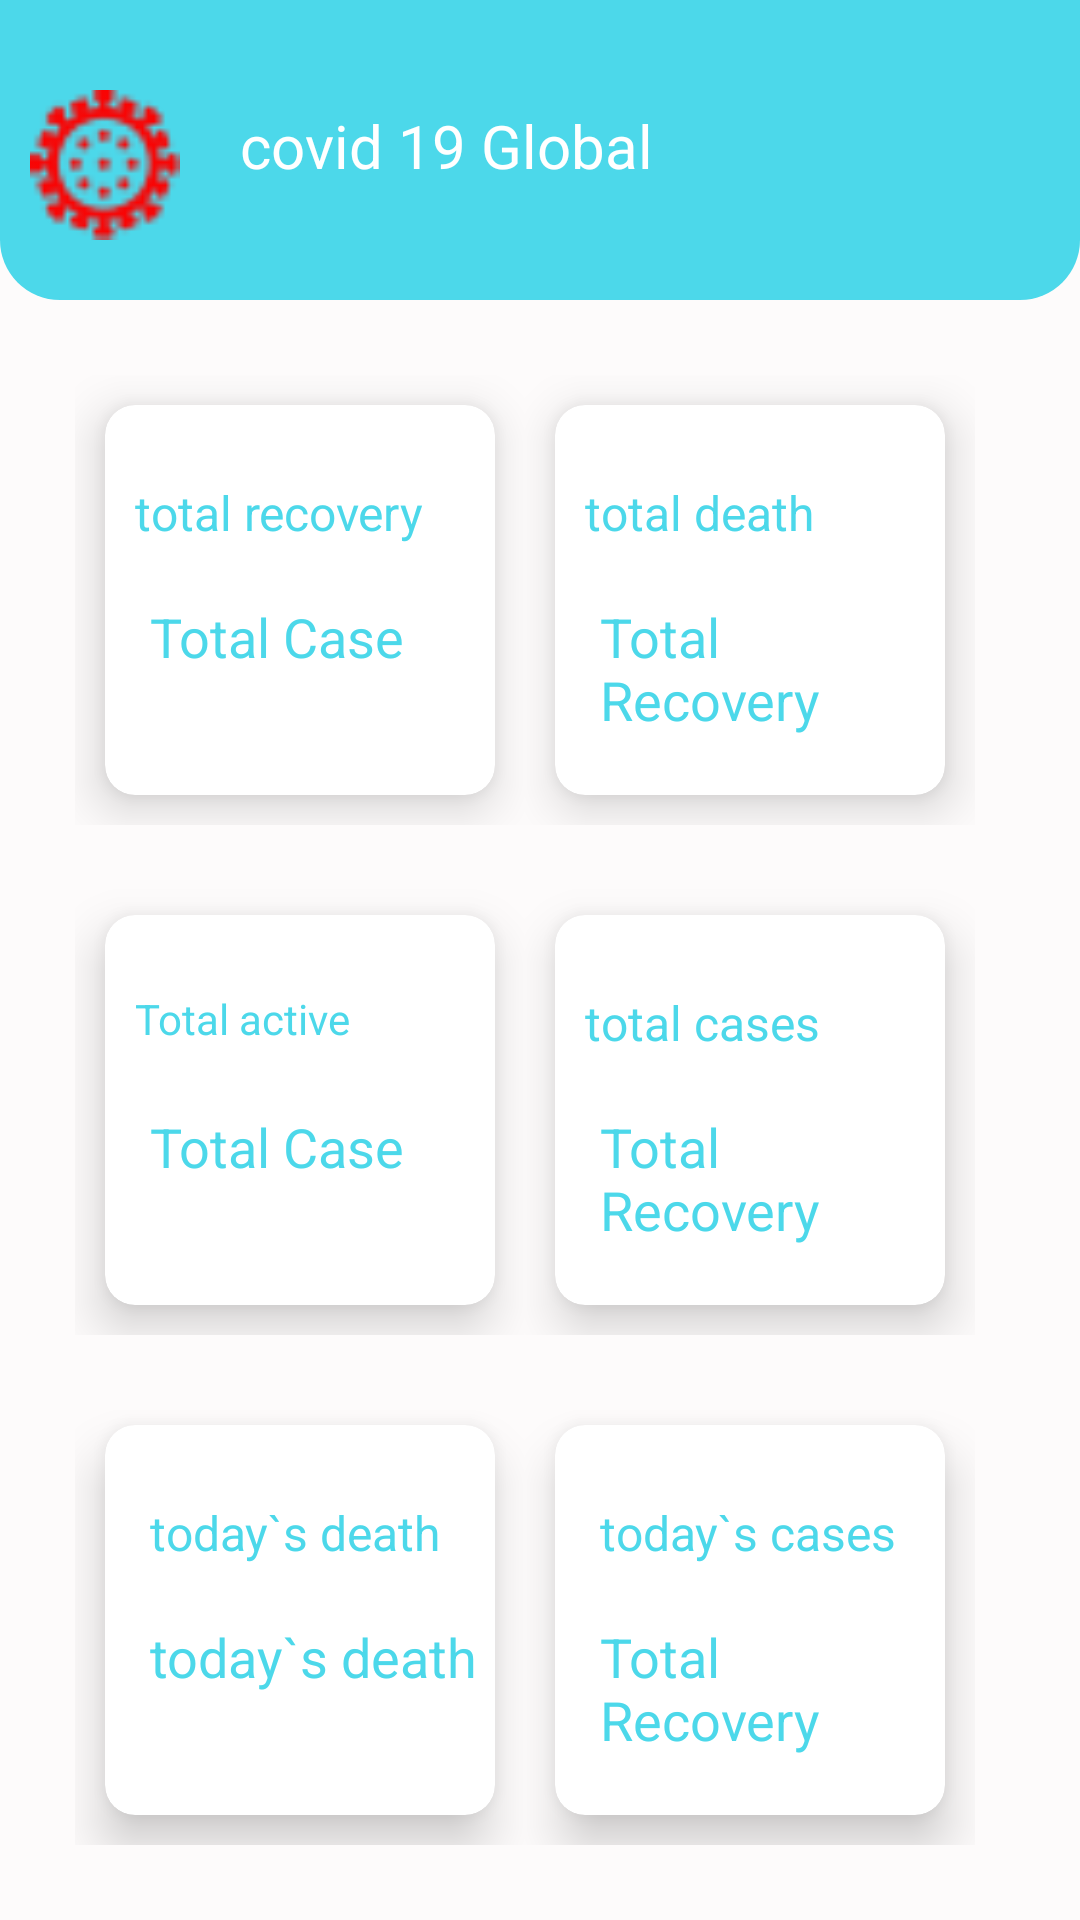

Icon bounding boxes for this 1080x1920 phone screenshot, format (x1, y1, x2, y2):
corona: (30, 90, 180, 240)
